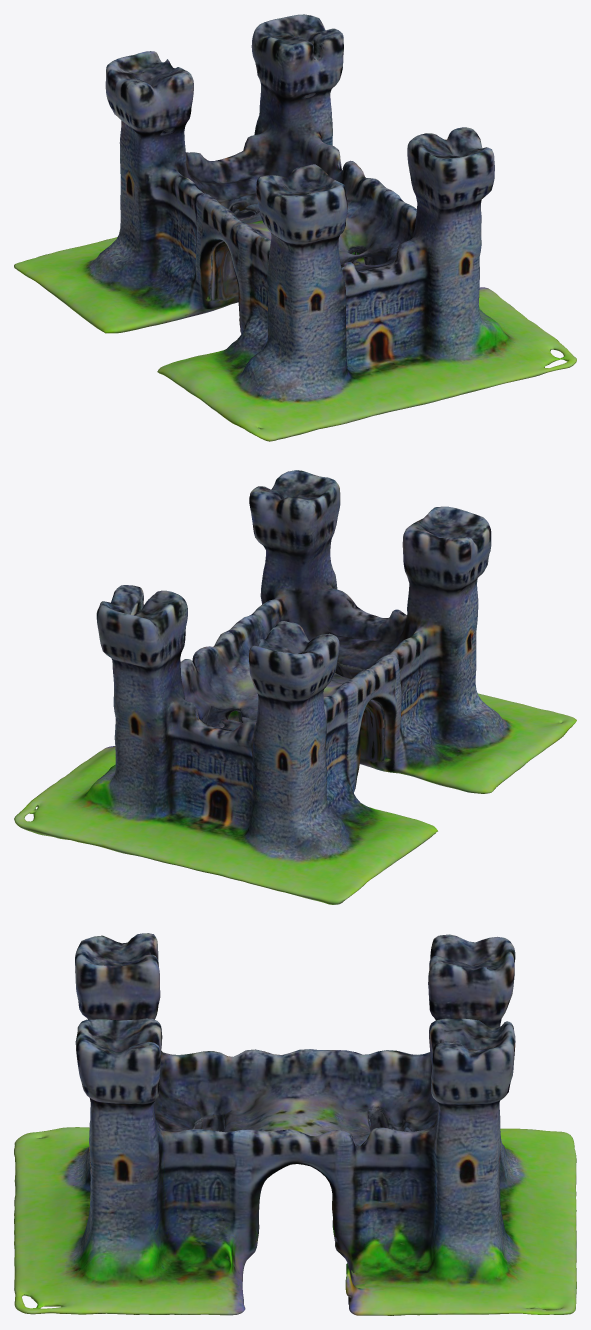
Rendered from dff89246d7d9_a_castle_with_a_mai 1.fbx.
3 views of the same model, one above another, from view 1: azimuth 30°, elevation 25°; view 2: azimuth 150°, elevation 25°; view 3: azimuth 270°, elevation 25° (orthographic). The views are drawn at different scales.
Parts seen in each view (by area): view 1: mesh; view 2: mesh; view 3: mesh.
Part boxes in pixels (x1,y1,x2,y2): mesh: (14, 14, 576, 441); mesh: (14, 470, 576, 904); mesh: (14, 933, 576, 1315).
Size of the model in its own units: 77.52 by 48.53 by 99.86.
